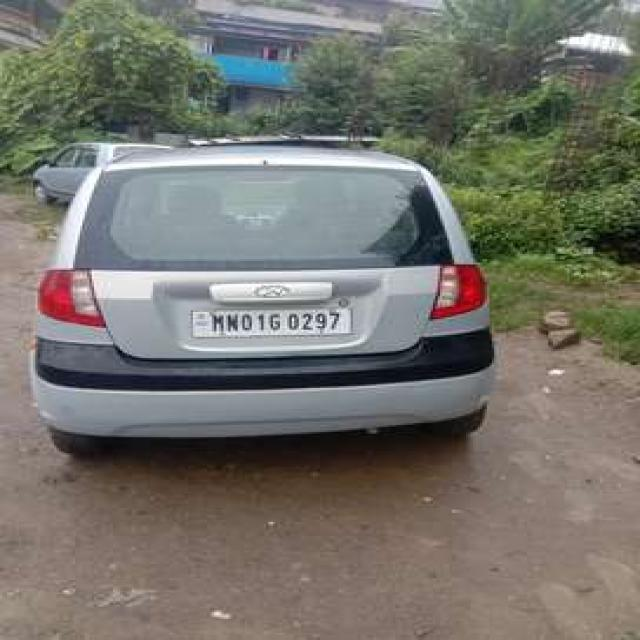Plate: (189, 308, 352, 336)
